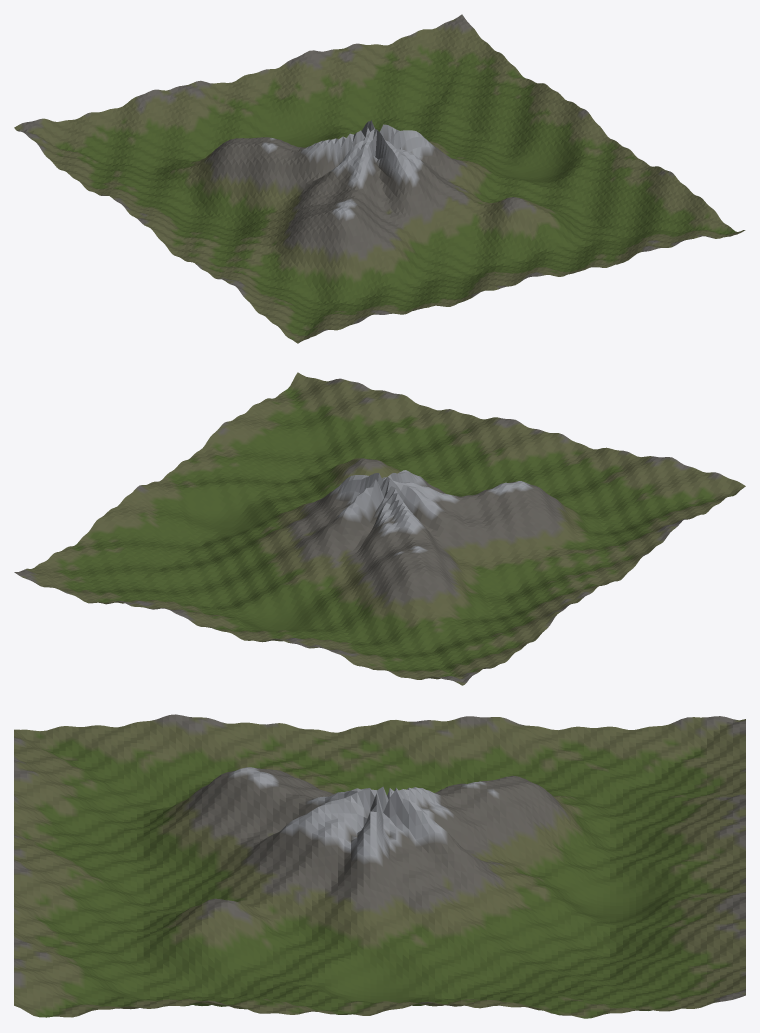
Rendered from campo-montana.glb.
3 renders of one model, top to bottom at view 1: azimuth 30°, elevation 25°; view 2: azimuth 150°, elevation 25°; view 3: azimuth 270°, elevation 25°, orthographic. The views are drawn at different scales.
Parts seen in each view (by area): view 1: campo-montana-0; view 2: campo-montana-0; view 3: campo-montana-0.
Boxes of the visible parts, <box> form: campo-montana-0: <box>14,14,745,343</box>; campo-montana-0: <box>14,372,745,685</box>; campo-montana-0: <box>14,714,745,1018</box>.
Bounding box in the file's own units: 309 × 58.66 × 339.
